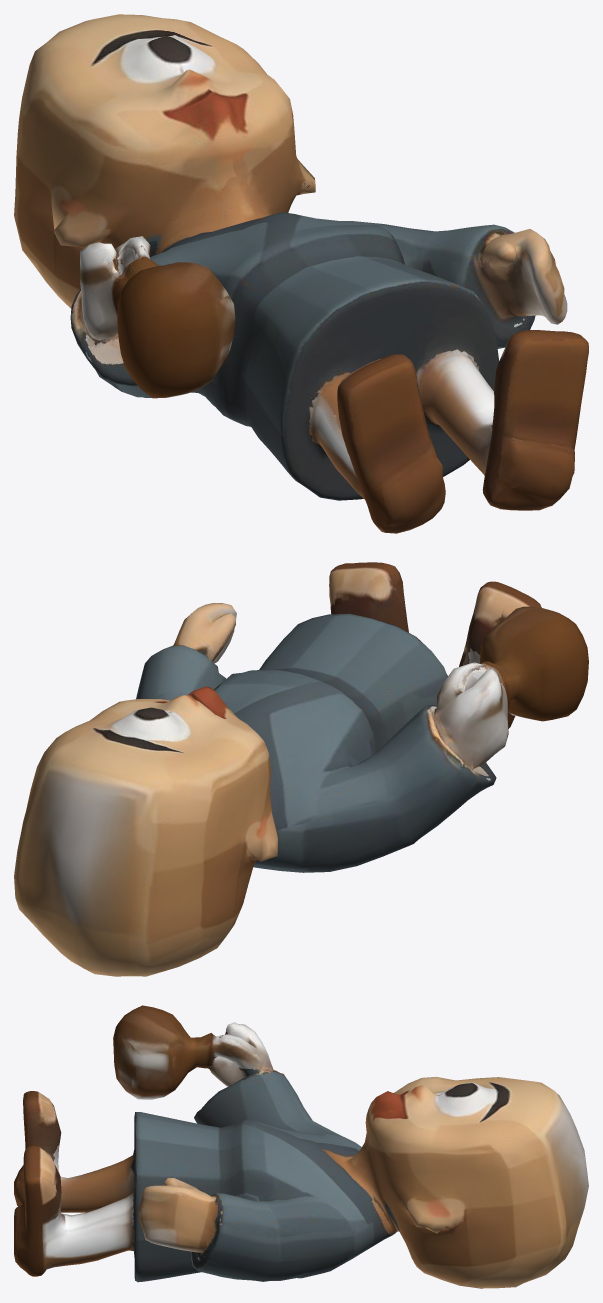
File: Hitotsume_Kozo.glb
3 renders of one model, top to bottom at view 1: azimuth 30°, elevation 25°; view 2: azimuth 150°, elevation 25°; view 3: azimuth 270°, elevation 25°, orthographic. The views are drawn at different scales.
Parts seen in each view (by area): view 1: Retopo_Hitotsume-kozo.001; view 2: Retopo_Hitotsume-kozo.001; view 3: Retopo_Hitotsume-kozo.001.
Boxes of the visible parts, box(x1,y1,x2,y2) form: Retopo_Hitotsume-kozo.001: box(14, 14, 588, 533); Retopo_Hitotsume-kozo.001: box(14, 562, 588, 976); Retopo_Hitotsume-kozo.001: box(14, 1005, 588, 1288).
Size of the model in its own units: 1.24 by 0.7099 by 1.95.
Materials: 1 (1 with a texture image).
